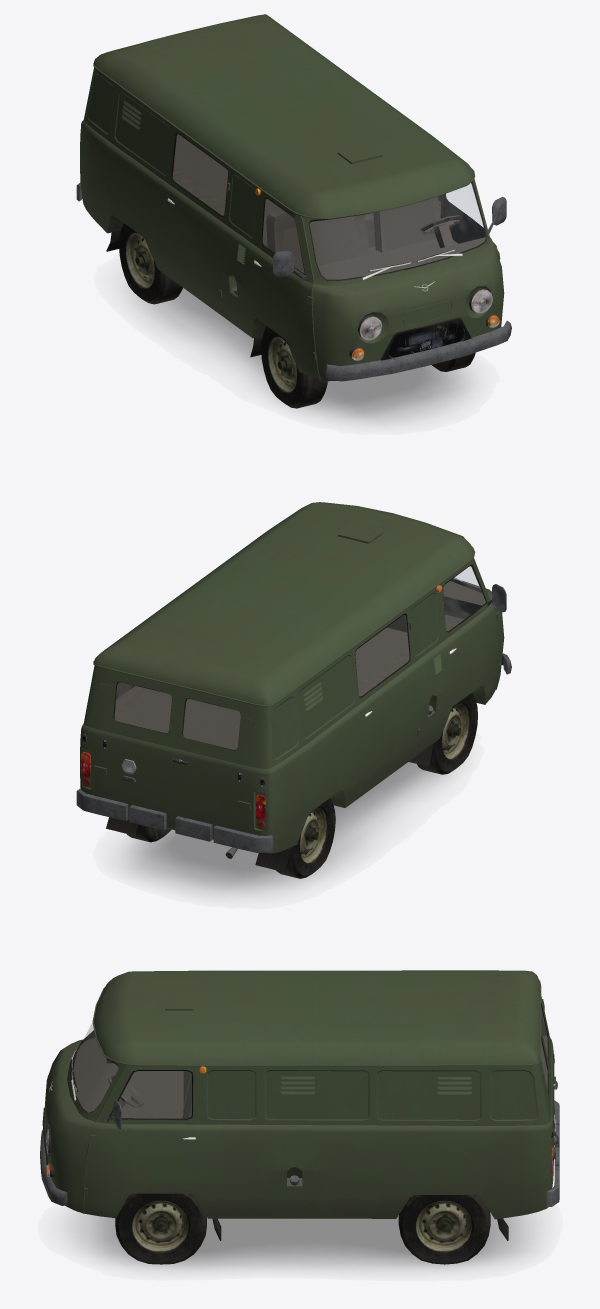
File: uaz452n.gltf
3 renders of one model, top to bottom at view 1: azimuth 30°, elevation 25°; view 2: azimuth 150°, elevation 25°; view 3: azimuth 270°, elevation 25°, orthographic.
Parts seen in each view (by area): view 1: Body, Wheel_FR, Wheel_RR; view 2: Body, Wheel_FR, Wheel_RR; view 3: Body, Wheel_FL, Wheel_RL.
Boxes of the visible parts, bbox=[...] form: Body: bbox=[76, 14, 511, 421]; Wheel_FR: bbox=[261, 326, 308, 408]; Wheel_RR: bbox=[119, 223, 166, 304]; Body: bbox=[76, 502, 511, 892]; Wheel_FR: bbox=[431, 692, 477, 774]; Wheel_RR: bbox=[289, 798, 335, 878]; Body: bbox=[40, 970, 559, 1268]; Wheel_FL: bbox=[115, 1193, 206, 1264]; Wheel_RL: bbox=[399, 1195, 490, 1264].
Bounding box in the file's own units: 2.66 × 2.01 × 4.64.
2 materials, 2 textured.
